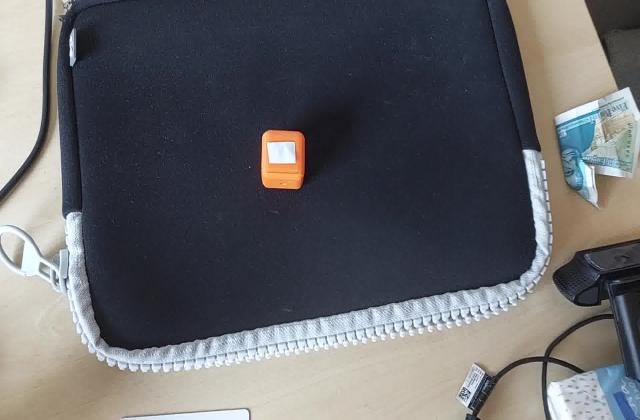sticker: (258, 130, 306, 193)
white: (266, 138, 299, 166)
